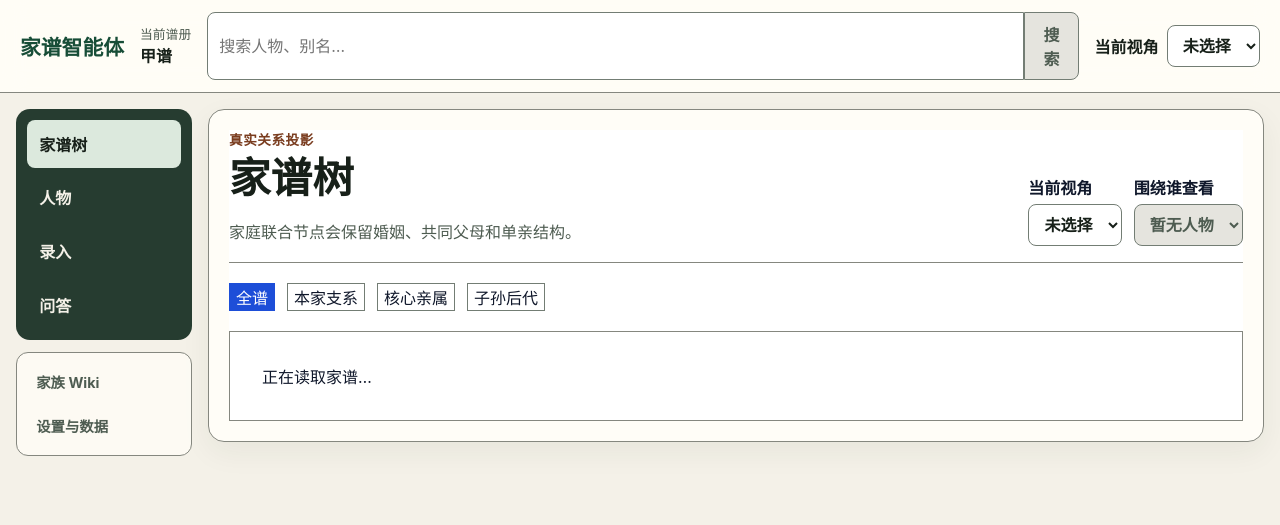
it: complete application shell › shows person codes and parent names in every global-search result
The width and height of the screenshot is (1280, 525).
Step 1. Type "张敏" into the field named "搜索当前谱册人物" → (616,46), box [207,12,1024,80]
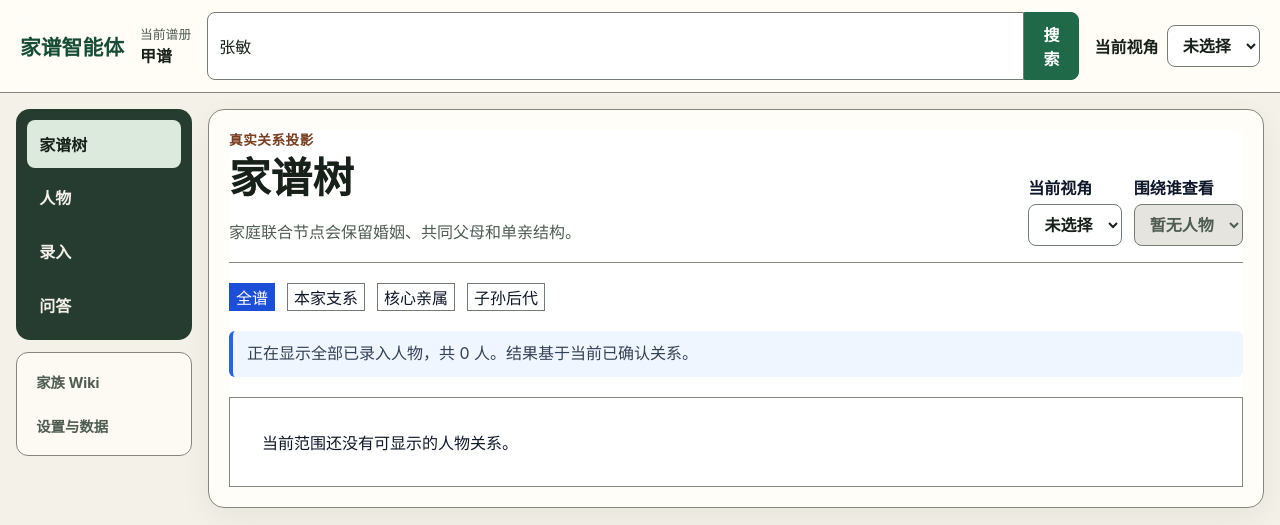
Step 2. Submit the form named "搜索当前谱册人物", box [207,12,1079,80]
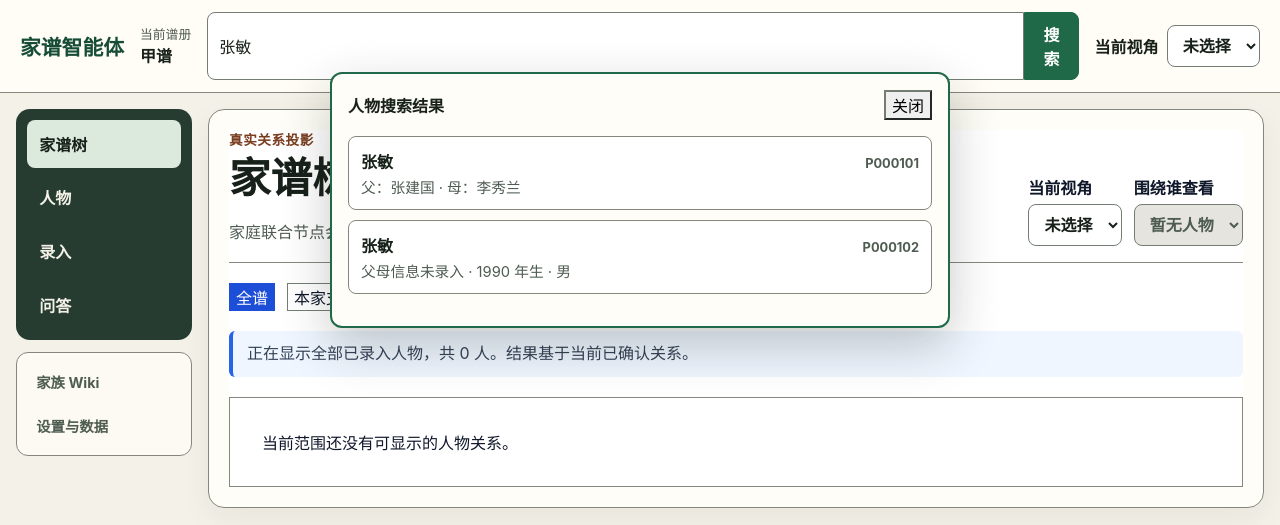
Expected: the text "P000101" is shown, [865,156,919,171]
Expected: the text "父：张建国 · 母：李秀兰" is shown, [361,179,521,197]
Expected: the text "P000102" is shown, [863,240,919,255]
